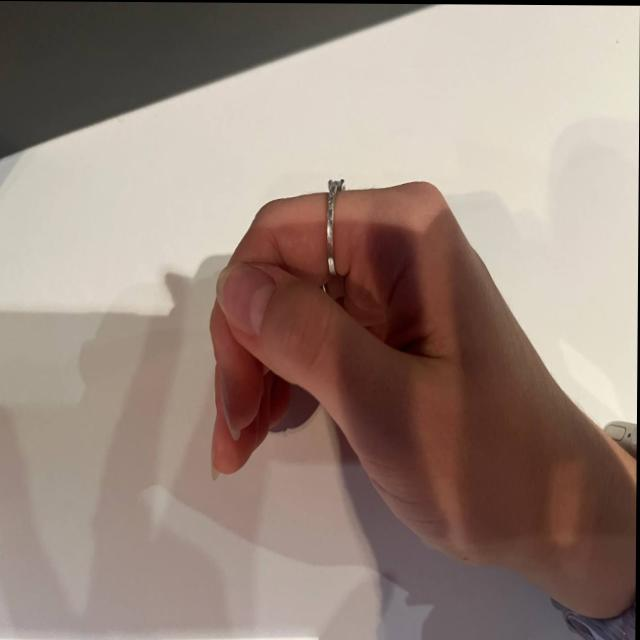f: (183, 163, 520, 585)
